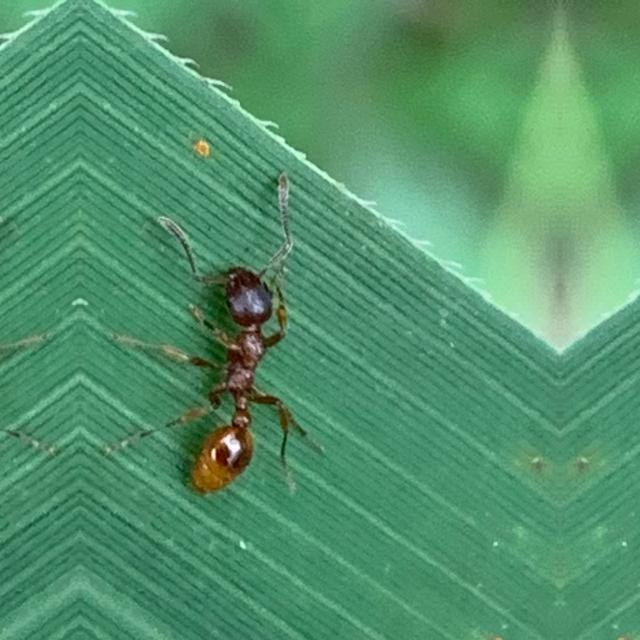Myrmica: (148, 209, 348, 511)
